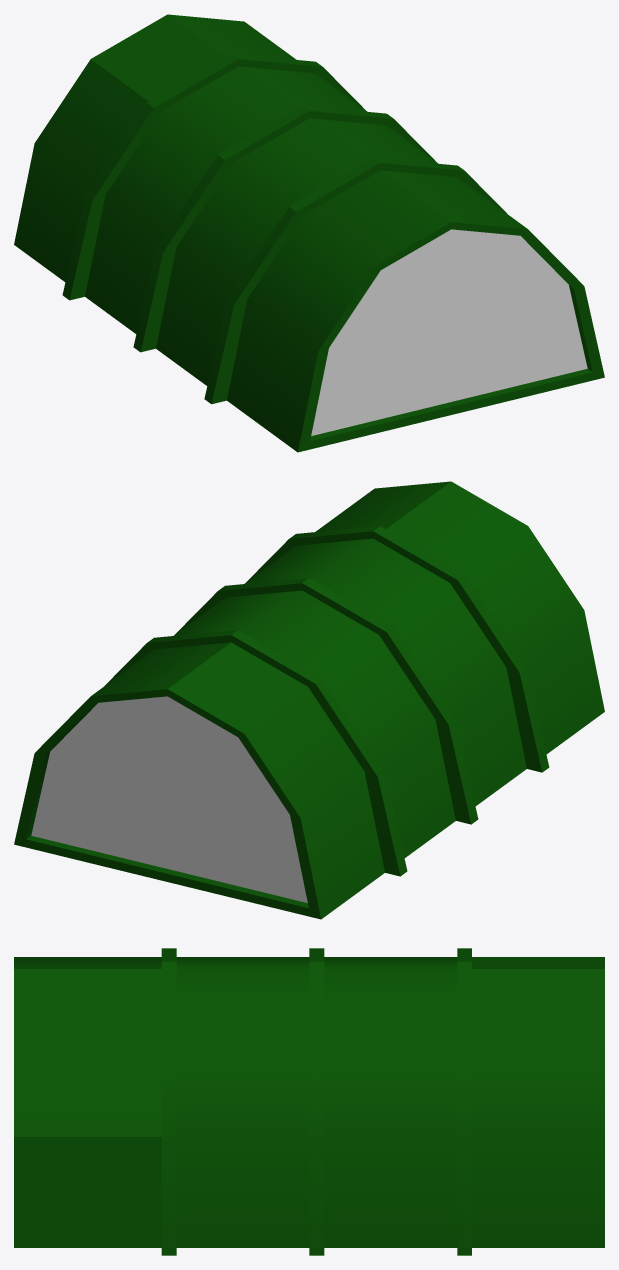
File: PlaneHangar.fbx
The picture shows the model from 3 angles, top to bottom: view 1: azimuth 30°, elevation 25°; view 2: azimuth 150°, elevation 25°; view 3: azimuth 270°, elevation 25°; orthographic projection. The views are drawn at different scales.
Visible parts, largest first — view 1: Cylinder; view 2: Cylinder; view 3: Cylinder.
Part boxes in pixels (left/top/right/bottom): Cylinder: left=14, top=14, right=604, bottom=452; Cylinder: left=14, top=481, right=604, bottom=919; Cylinder: left=14, top=948, right=604, bottom=1255.
Bounding box in the file's own units: 858 × 486 × 1248.
